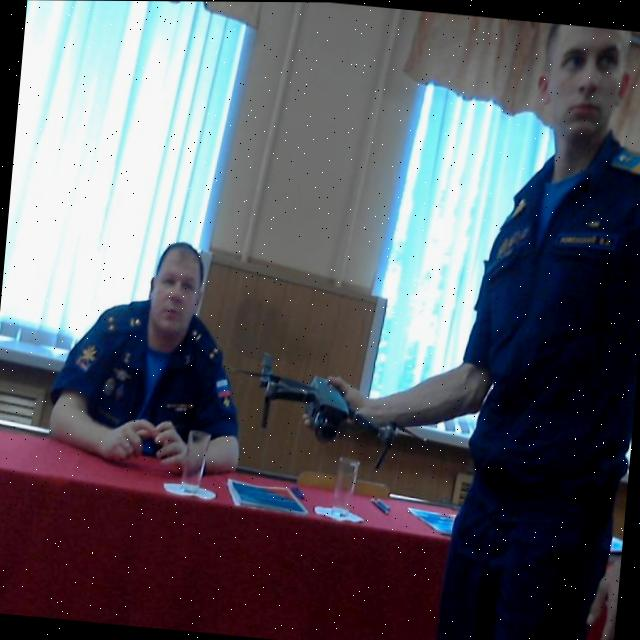drone: (210, 316, 448, 487)
